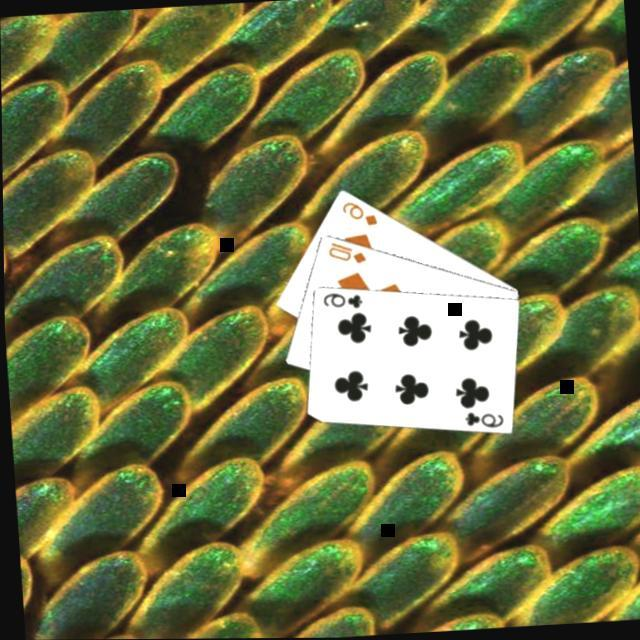10D: (325, 238, 370, 268)
6C: (320, 290, 366, 314), (462, 408, 506, 432)
6D: (339, 198, 382, 232)
